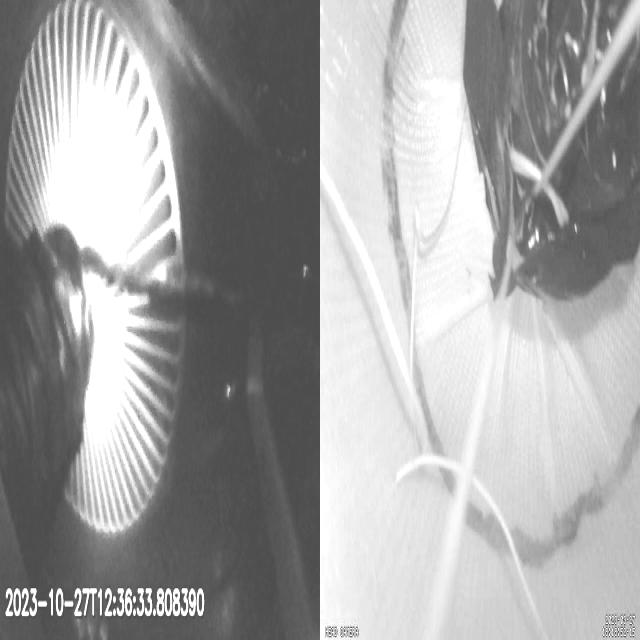red-circle: (380, 0, 640, 570)
